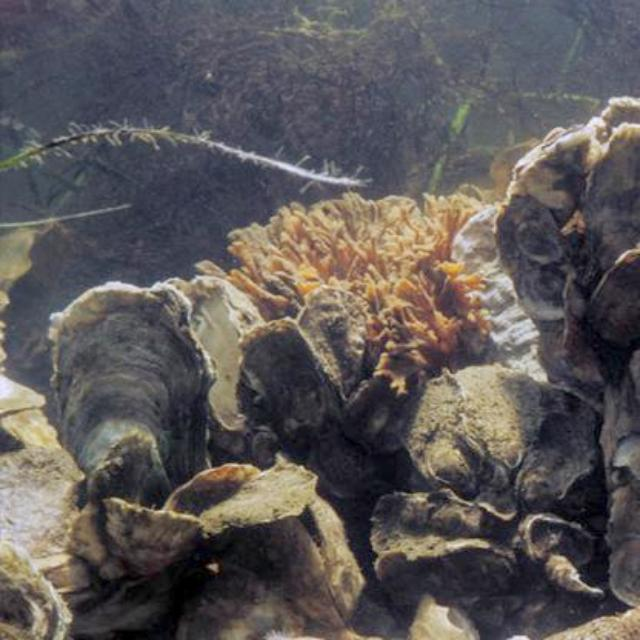Oyster-Closed: (56, 283, 209, 514), (153, 276, 267, 451), (456, 204, 545, 379), (241, 315, 332, 441), (519, 385, 600, 511), (405, 371, 487, 495), (451, 361, 542, 463), (505, 126, 590, 230), (0, 450, 81, 557), (201, 462, 318, 535), (375, 492, 507, 554), (298, 290, 370, 398), (103, 499, 205, 575), (588, 123, 640, 271), (344, 380, 411, 454), (592, 249, 640, 343), (0, 408, 61, 450), (0, 380, 47, 421)
Oyster-Open: (271, 495, 366, 627), (0, 542, 74, 640), (408, 591, 483, 640)
